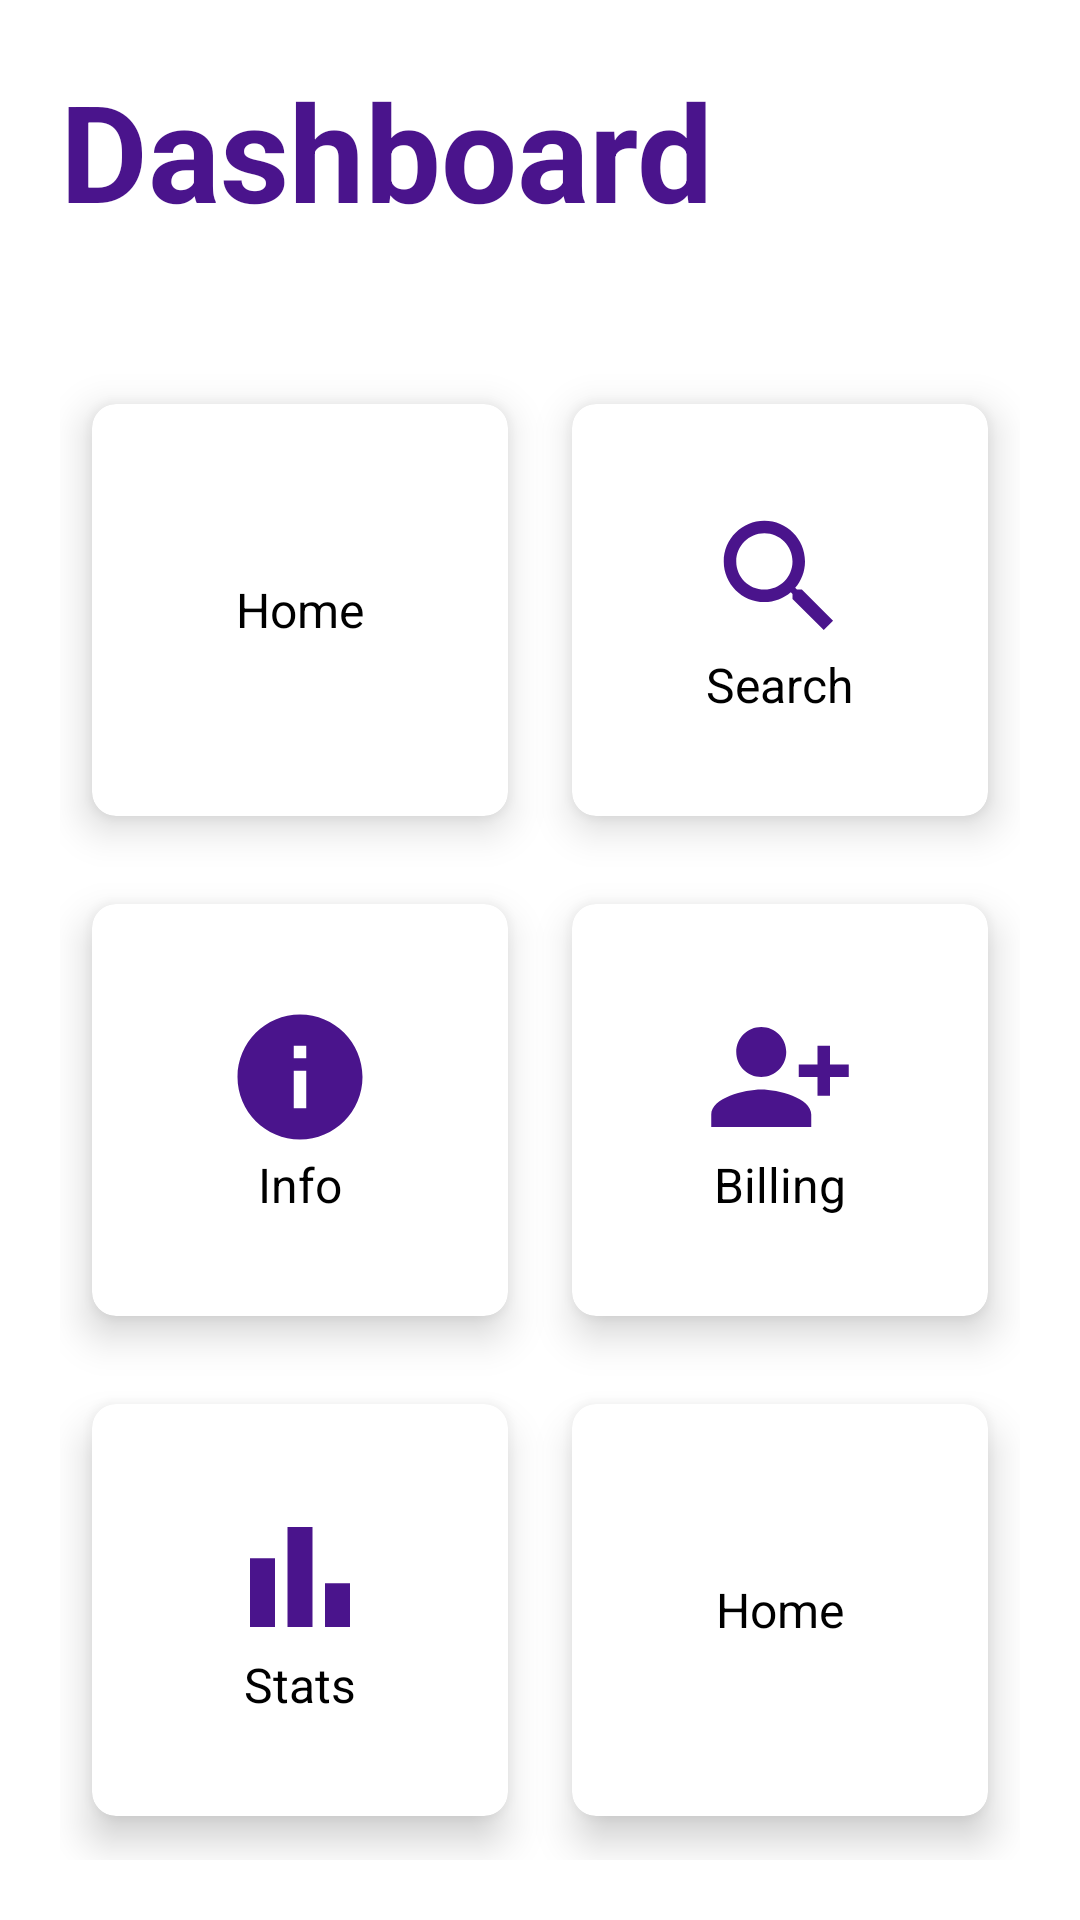

Named icons in this screenshot (1080×1920) and their centers, point (x, y):
bargraph: point (300, 1577)
newcustomer: point (780, 1077)
